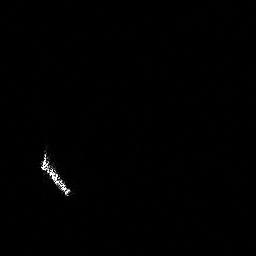ship: (36, 147, 74, 199)
